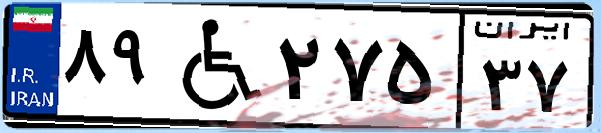2: (270, 28, 330, 110)
3: (475, 38, 525, 113)
5: (385, 28, 445, 110)
7: (330, 28, 385, 110), (525, 38, 570, 115)
8: (57, 26, 110, 100)
9: (110, 28, 158, 98)
ژ (معلولین و جانبازان): (158, 12, 270, 120)
